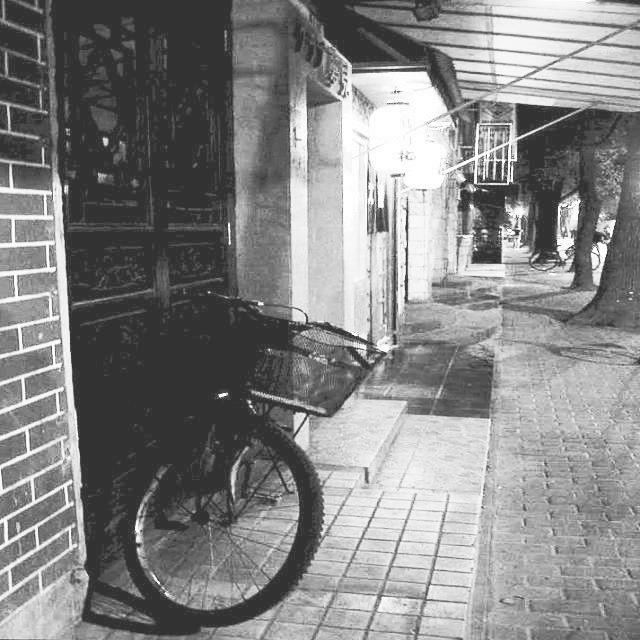Bicycle: (116, 309, 366, 631), (528, 241, 602, 275)
